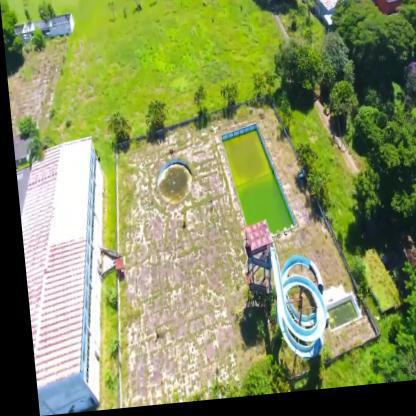agua: (222, 136, 276, 228), (150, 164, 189, 208)
